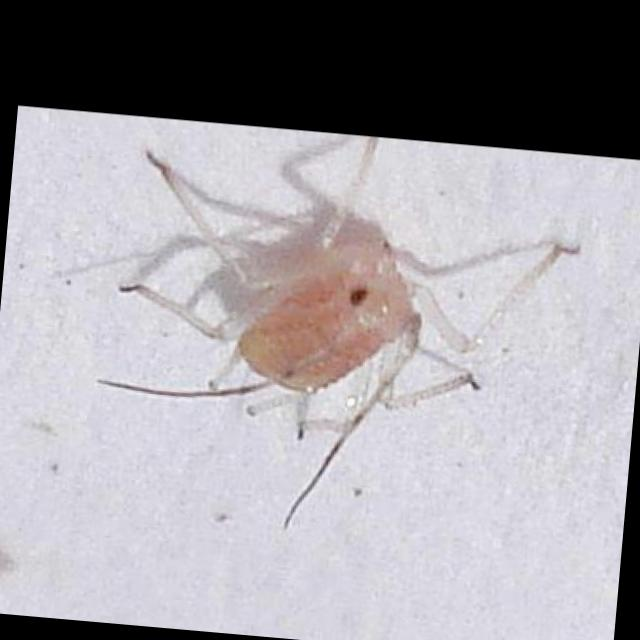Aphids: (61, 115, 595, 564)
